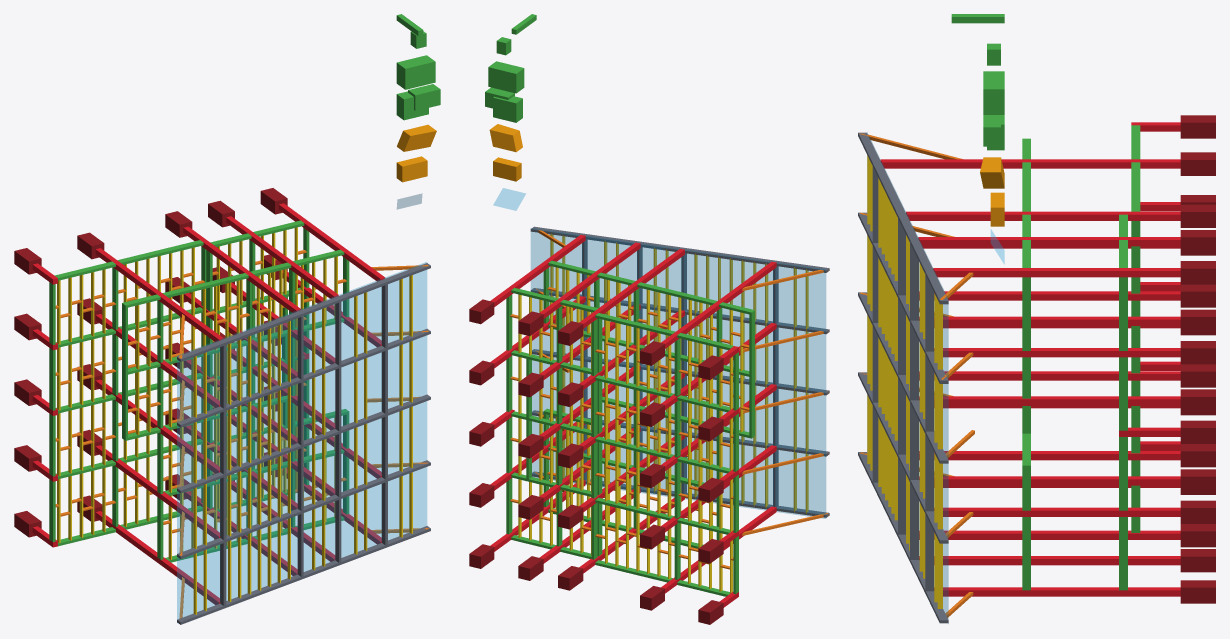
File: tinker.obj
3 renders of one model, left to right at view 1: azimuth 30°, elevation 25°; view 2: azimuth 150°, elevation 25°; view 3: azimuth 270°, elevation 25°, orthographic. The views are drawn at different scales.
Visible parts, largest first — view 1: obj_424, obj_1, obj_420, obj_2, obj_20, obj_15, obj_421, obj_3, obj_4, obj_11, obj_6, obj_419 (+10 smaller); view 2: obj_424, obj_1, obj_420, obj_2, obj_421, obj_3, obj_4, obj_419, obj_20, obj_15, obj_7, obj_21 (+13 smaller); view 3: obj_1, obj_2, obj_3, obj_4, obj_23, obj_18, obj_9, obj_13, obj_8, obj_17, obj_22, obj_7 (+60 smaller).
Part boxes in pixels (box(x1,y1,x2,y2)): obj_424: box(177, 262, 426, 623); obj_1: box(95, 248, 223, 341); obj_420: box(396, 84, 440, 120); obj_2: box(183, 226, 300, 312); obj_20: box(95, 511, 220, 604); obj_15: box(95, 445, 220, 539); obj_421: box(396, 55, 435, 89); obj_3: box(226, 216, 338, 298); obj_4: box(279, 203, 384, 281); obj_11: box(95, 379, 220, 473); obj_6: box(95, 314, 220, 407); obj_419: box(397, 124, 436, 151); obj_424: box(531, 228, 825, 518); obj_1: box(661, 261, 776, 348); obj_420: box(485, 87, 522, 122); obj_2: box(579, 249, 684, 328); obj_421: box(488, 61, 524, 93); obj_3: box(539, 242, 640, 318); obj_4: box(490, 235, 585, 306); obj_419: box(489, 124, 522, 152); obj_20: box(661, 506, 776, 593); obj_15: box(661, 445, 776, 532); obj_7: box(579, 310, 684, 389); obj_21: box(579, 496, 684, 573); obj_1: box(880, 159, 1180, 168); obj_2: box(906, 211, 1180, 220); obj_3: box(918, 237, 1180, 246); obj_4: box(933, 268, 1180, 277); obj_23: box(934, 587, 1180, 596); obj_18: box(934, 507, 1180, 516); obj_9: box(934, 348, 1180, 357); obj_13: box(919, 396, 1180, 405); obj_8: box(919, 316, 1180, 325); obj_17: box(919, 476, 1180, 485); obj_22: box(919, 556, 1180, 565); obj_7: box(919, 291, 1180, 300).
Bounding box in the file's own units: 132 × 192 × 102.
